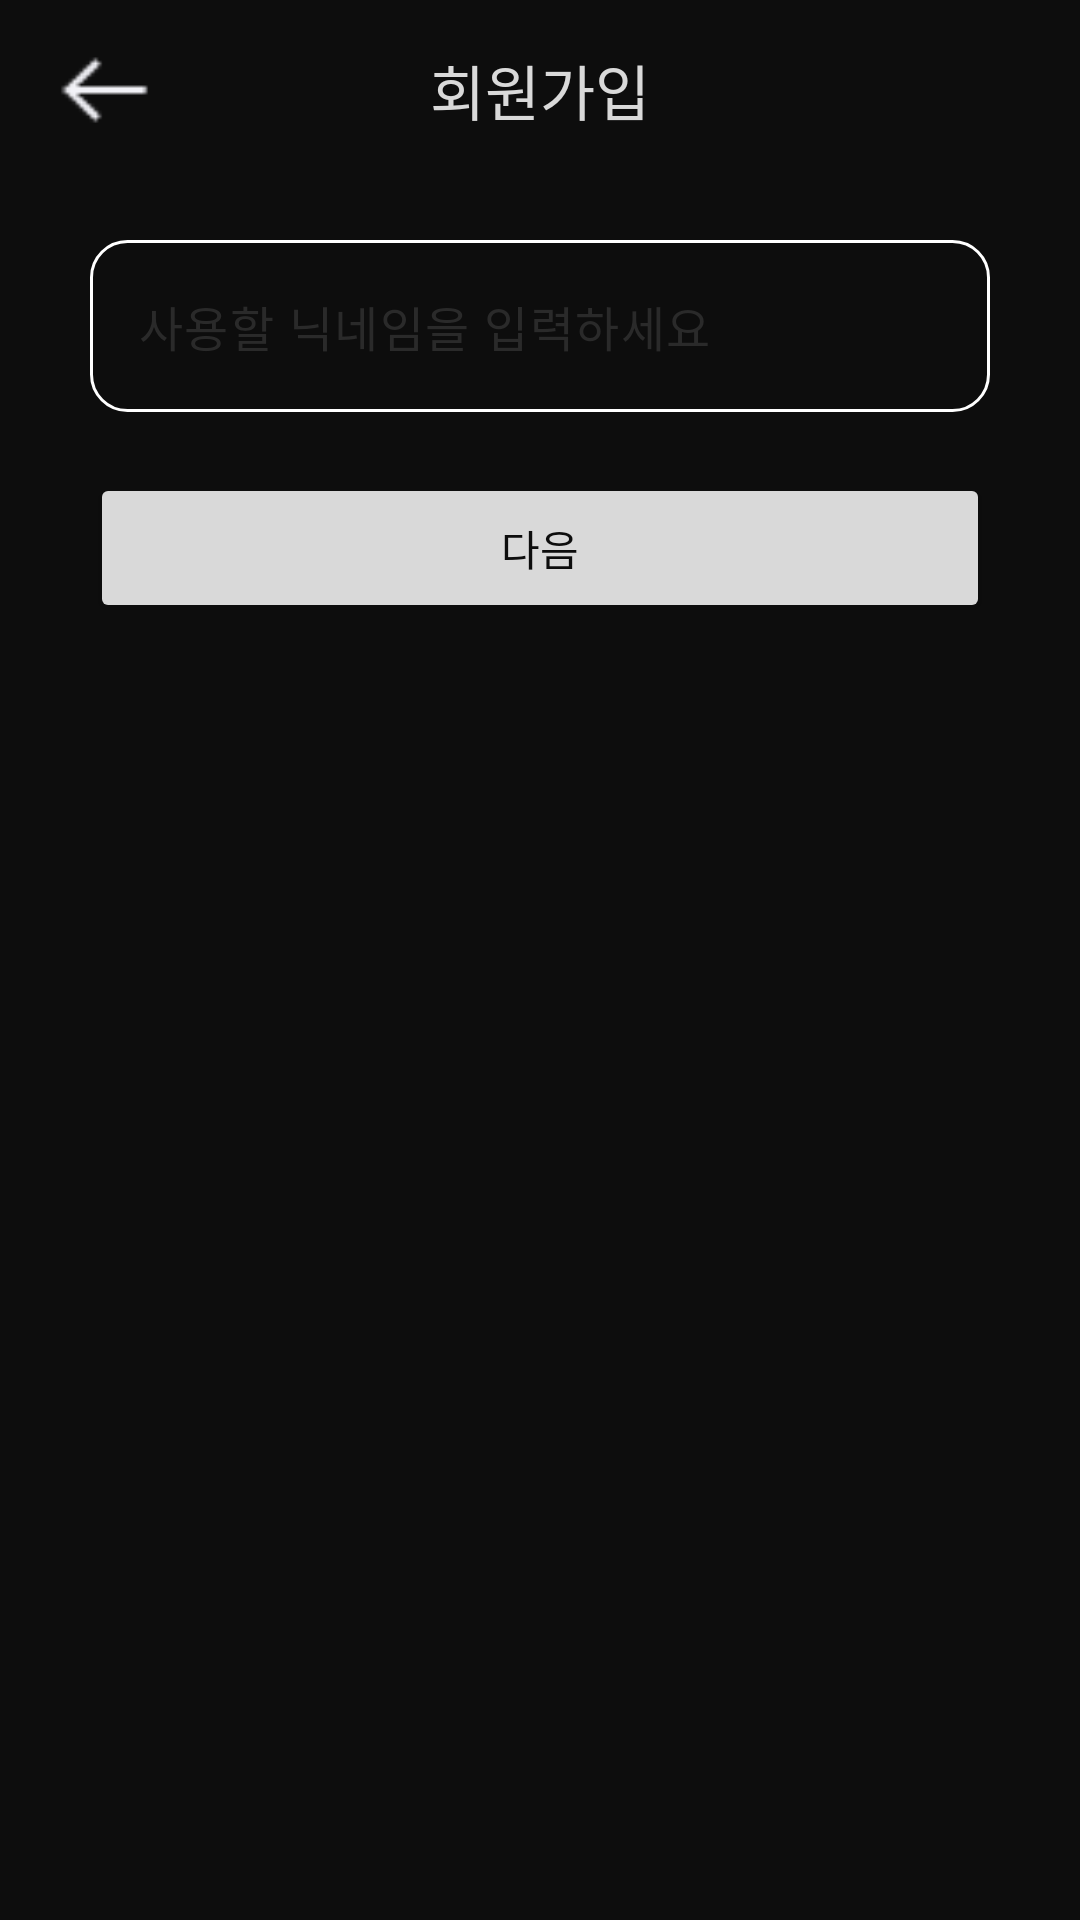

Point at icon controls on the screen. Image size 1080*1920, points as point (x, y).
뒤로가기: point (104, 90)
